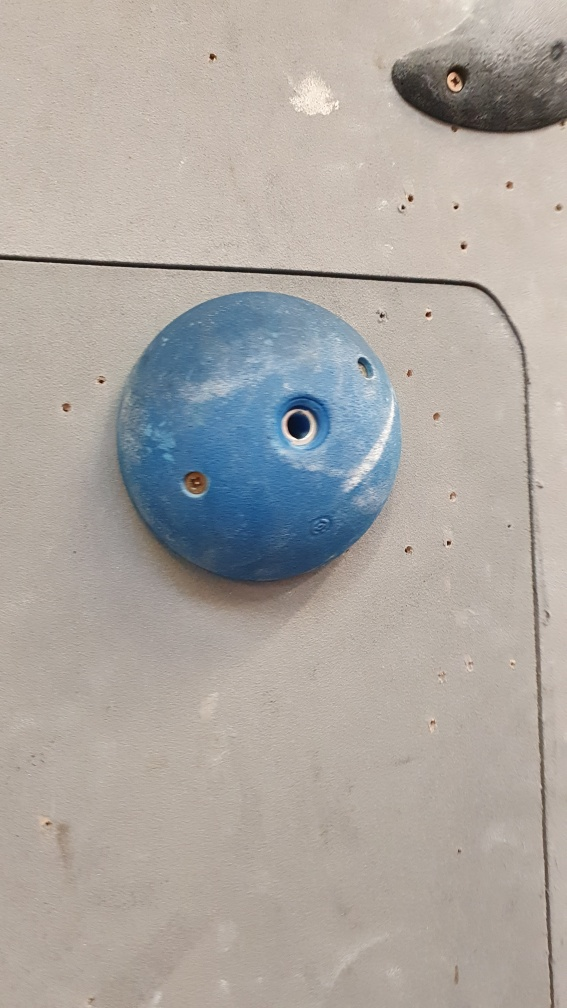Sloper: (112, 285, 410, 589)
